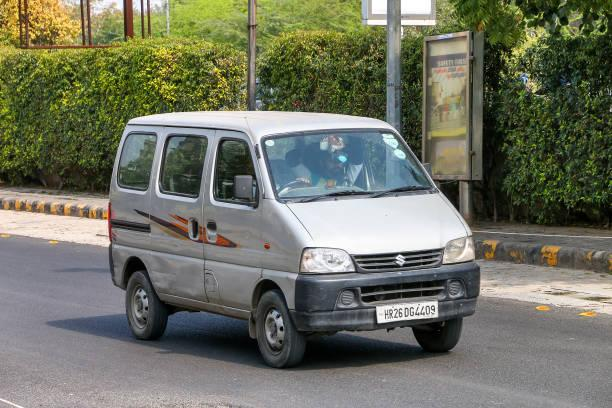suzuki: (391, 250, 412, 271)
